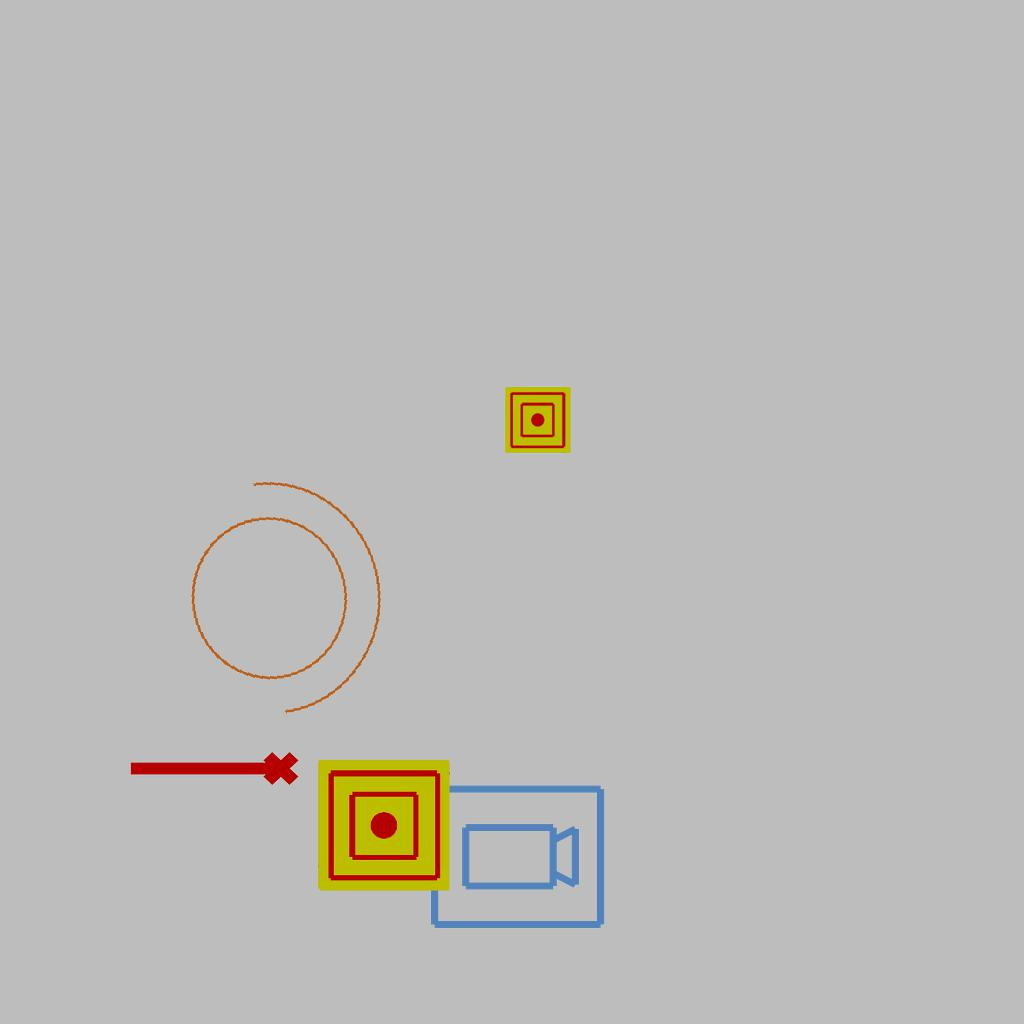ASR_Ansaugoeffnung: (125, 748, 301, 794)
KFO_Kamera_mit_Festobjektiv: (426, 781, 608, 935)
NAM-Nichtautomatischer_Melder: (318, 759, 450, 891), (505, 387, 571, 453)
Scheinwerfer_fuer_Alarmbeleuchtung: (148, 444, 408, 737)
